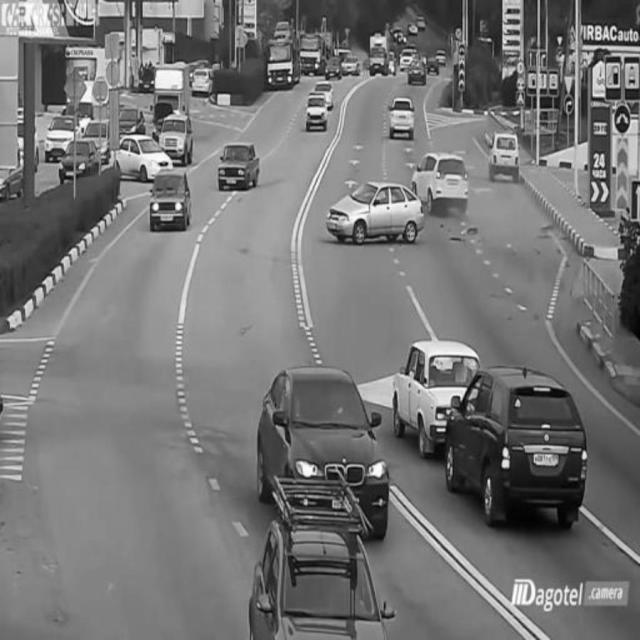vehicle: (442, 369, 586, 525), (258, 368, 395, 530), (243, 528, 394, 638), (393, 336, 465, 452), (331, 175, 425, 242), (418, 146, 469, 210), (114, 125, 172, 179), (146, 165, 192, 232), (55, 133, 101, 184), (218, 141, 264, 192), (266, 29, 300, 93), (486, 129, 523, 183), (44, 109, 78, 161), (163, 107, 193, 163), (388, 88, 416, 135), (304, 87, 331, 133), (369, 34, 394, 76), (405, 47, 431, 87), (191, 66, 215, 92), (323, 52, 345, 78)
